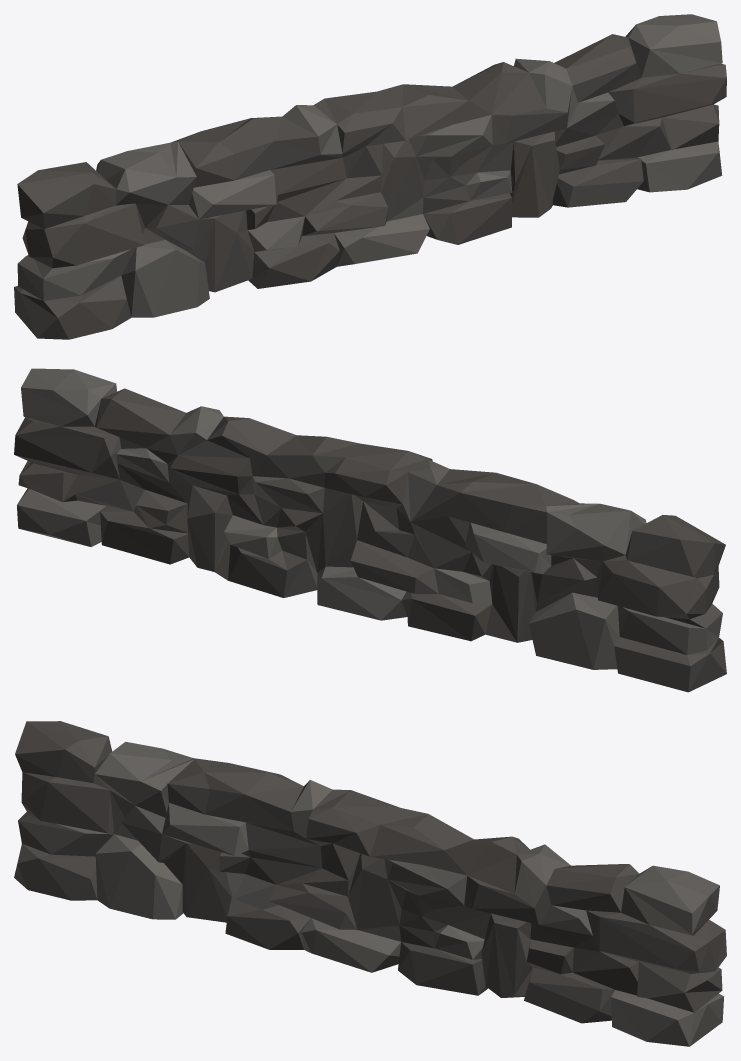
The model's file is env_stonewall.gltf.
3 views of the same model, one above another, from view 1: azimuth 30°, elevation 25°; view 2: azimuth 150°, elevation 25°; view 3: azimuth 330°, elevation 25° (orthographic).
Parts seen in each view (by area): view 1: env_stonewall; view 2: env_stonewall; view 3: env_stonewall.
Part boxes in pixels (bbox=[...]): env_stonewall: bbox=[14, 14, 726, 339]; env_stonewall: bbox=[14, 368, 726, 692]; env_stonewall: bbox=[14, 721, 726, 1046].
Size of the model in its own units: 5.13 by 1.09 by 0.6082.
1 material, 1 textured.
